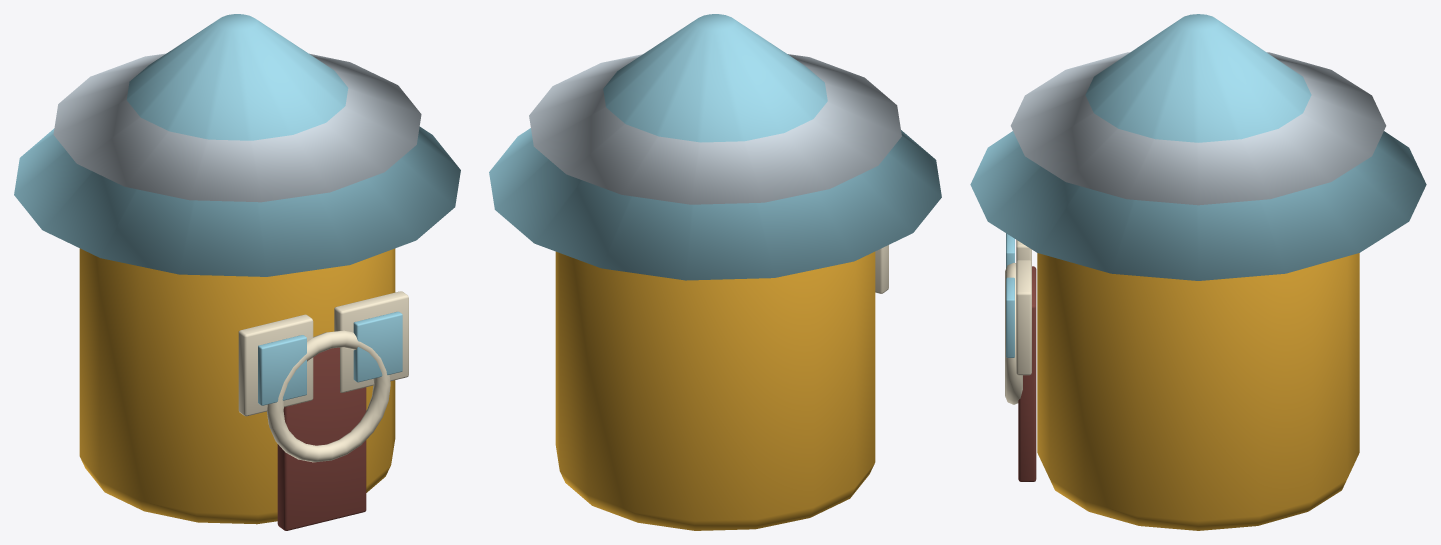
Rendered from r086_development_northern_kingdom_additions_northern_08.glb.
3 renders of one model, left to right at view 1: azimuth 30°, elevation 25°; view 2: azimuth 150°, elevation 25°; view 3: azimuth 270°, elevation 25°, orthographic.
Parts seen in each view (by area): view 1: r086_development_northern_kingdom_additions_northern_08.001; view 2: r086_development_northern_kingdom_additions_northern_08.001; view 3: r086_development_northern_kingdom_additions_northern_08.001.
Boxes of the visible parts, box(x1,y1,x2,y2) form: r086_development_northern_kingdom_additions_northern_08.001: box(14, 14, 460, 530); r086_development_northern_kingdom_additions_northern_08.001: box(489, 14, 941, 530); r086_development_northern_kingdom_additions_northern_08.001: box(970, 14, 1426, 530).
Bounding box in the file's own units: 4.08 × 4.42 × 4.08.
